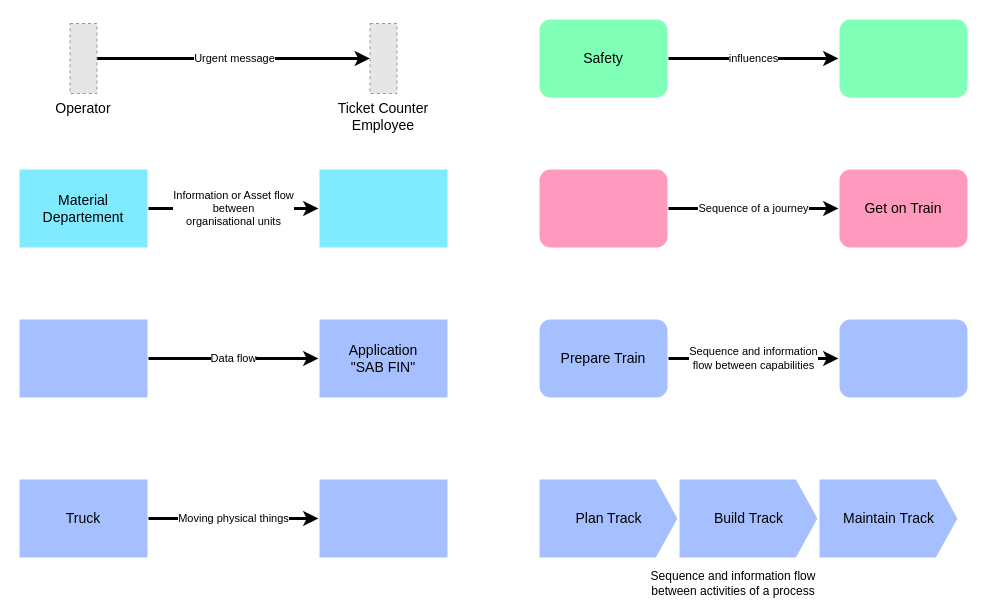
This 986x615 diagram has some shape labels left out. Grey dashed boxes stand in for pictures. The box of each missing label's shape, as (x1, y1, x2, y2) in pixels:
Application "SAB LO": (17, 317, 149, 399)
Convenience and Comfort: (837, 17, 969, 99)
Drive Train: (837, 317, 969, 399)
Freight Wagon: (317, 477, 449, 559)
Get to Station: (537, 167, 669, 249)
Logistics Departement: (317, 167, 449, 249)
